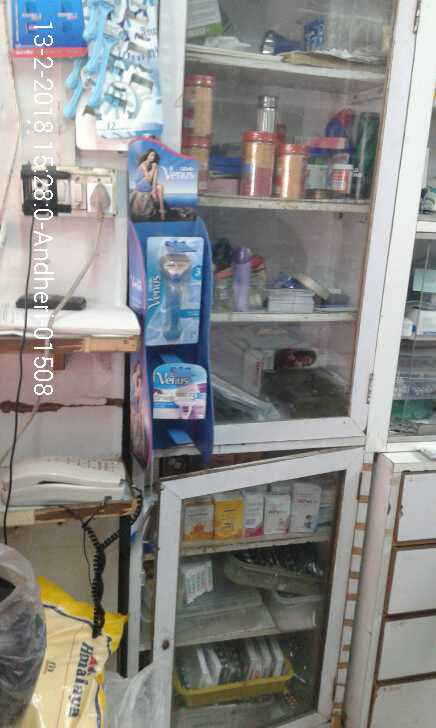venus: (143, 228, 206, 347), (148, 357, 213, 424)
